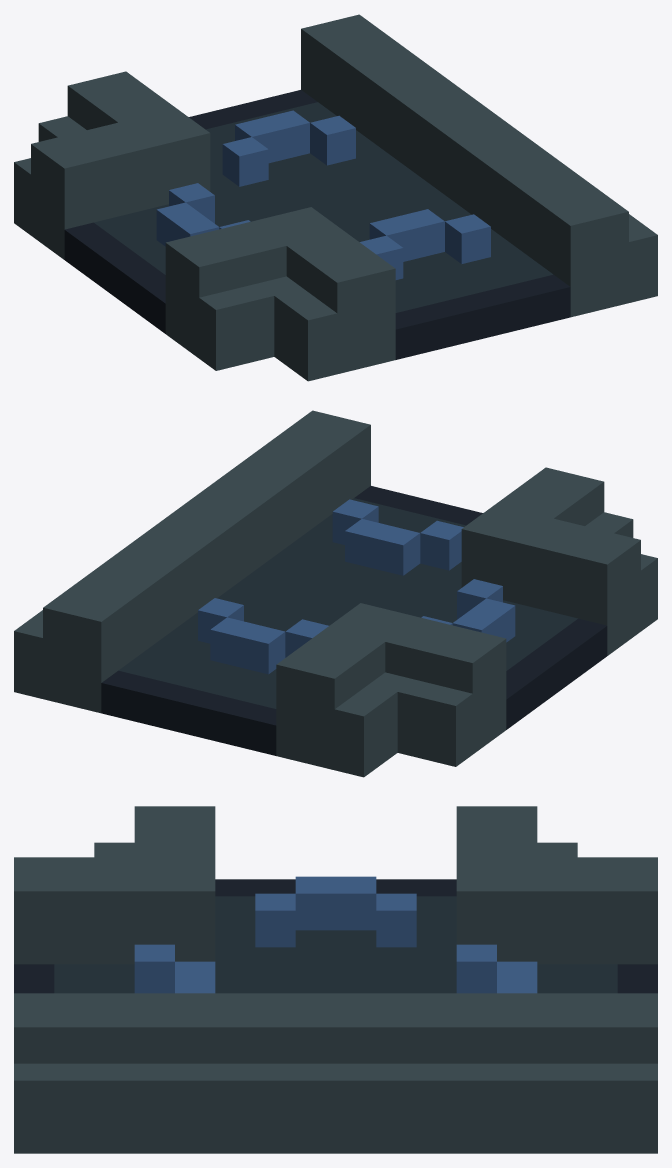
File: ConveyorStraightLeft.obj
3 renders of one model, top to bottom at view 1: azimuth 30°, elevation 25°; view 2: azimuth 150°, elevation 25°; view 3: azimuth 270°, elevation 25°, orthographic. The views are drawn at different scales.
Size of the model in its own units: 1.4 by 0.3 by 1.6.
1 material, 1 textured.
